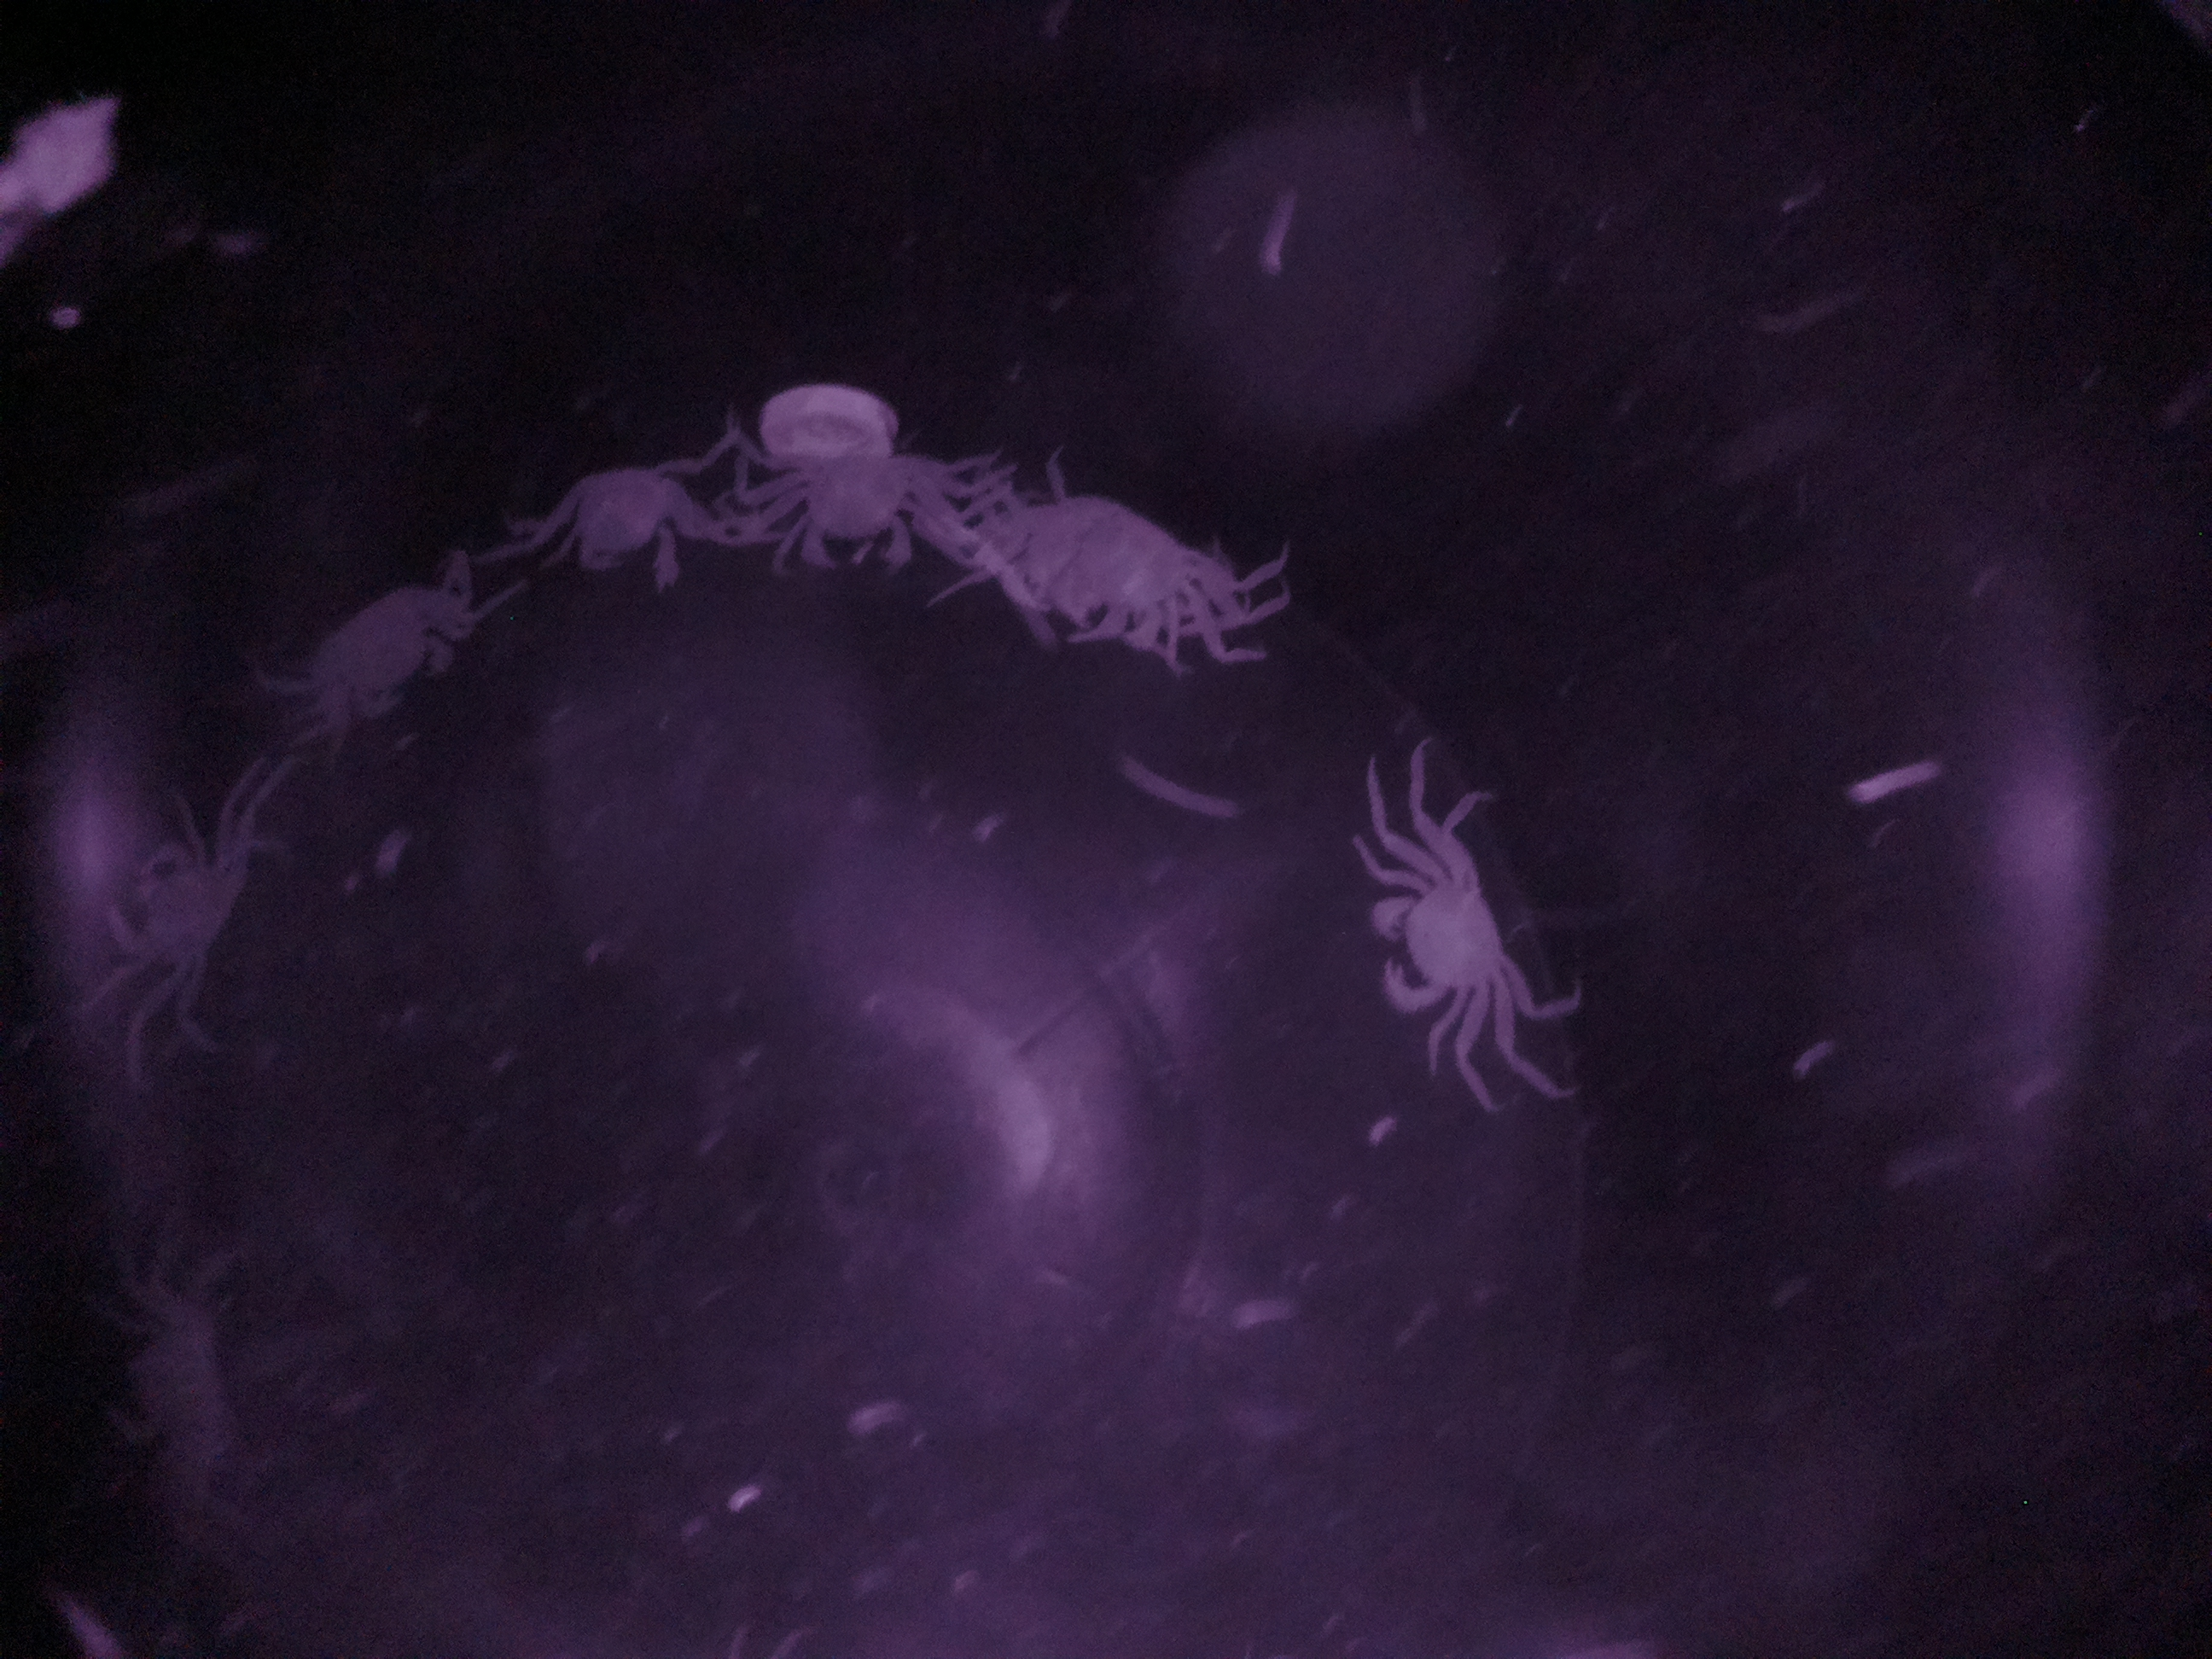Crab: (1341, 819, 1552, 1053), (279, 563, 474, 755), (528, 430, 732, 612), (775, 432, 948, 573)
